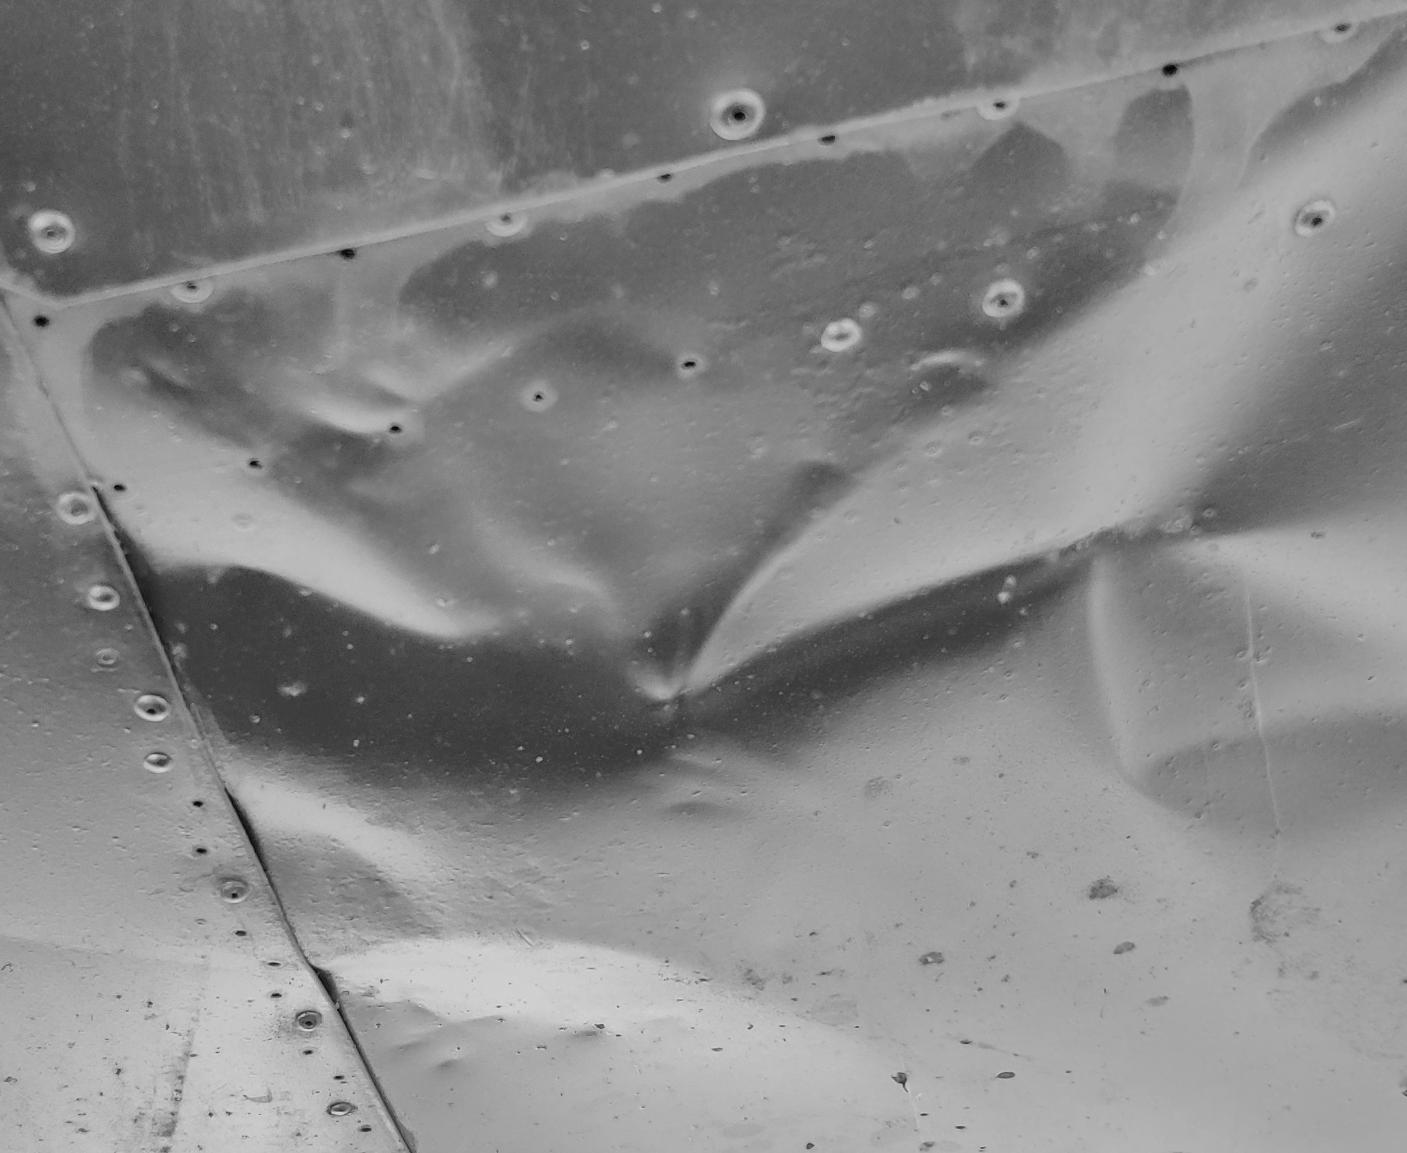dent: (1, 0, 1407, 1153)
